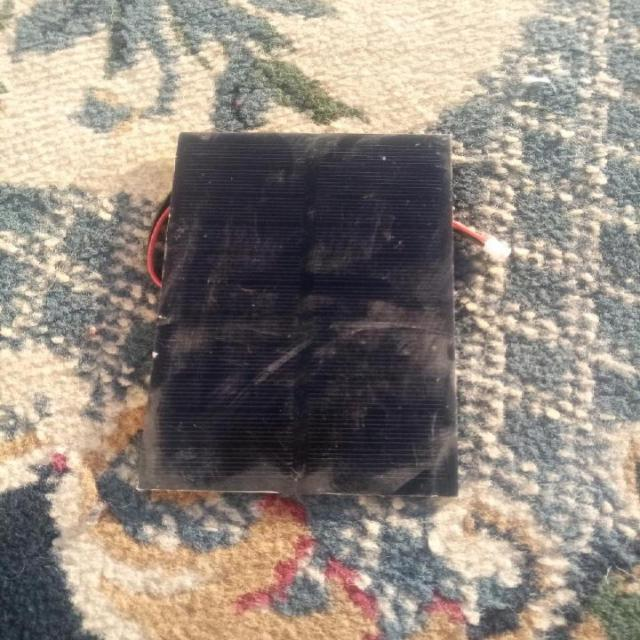faulty: (171, 126, 467, 496)
